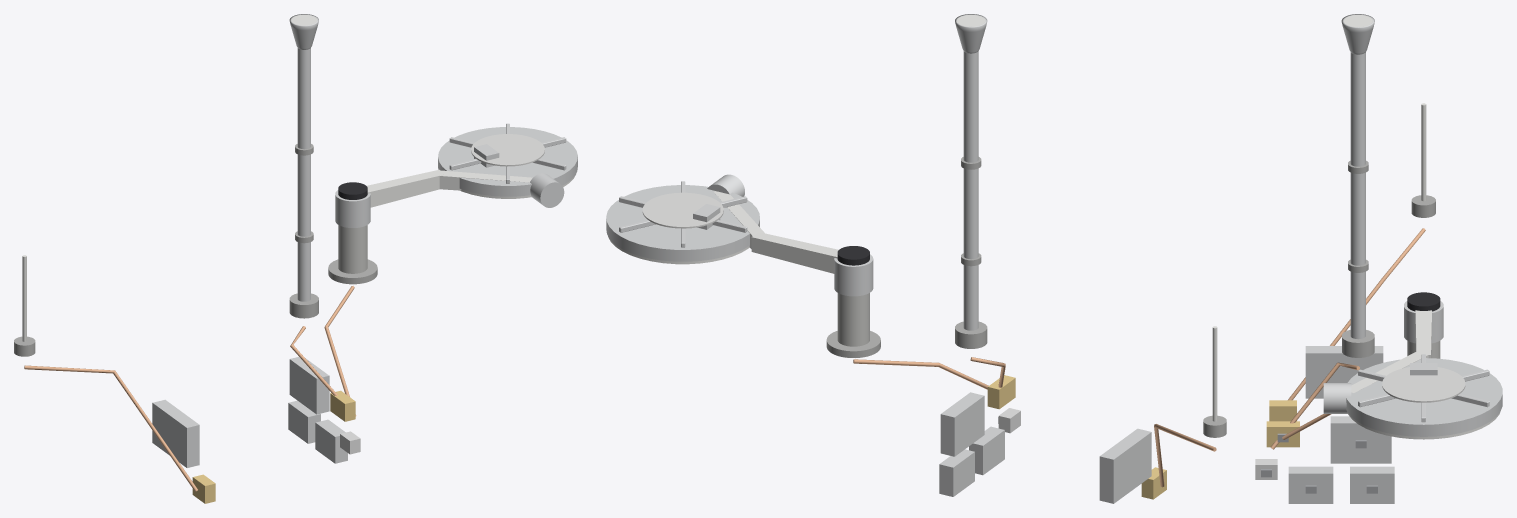
The model's file is spirit-antenna.glb.
The picture shows the model from 3 angles, left to right: view 1: azimuth 30°, elevation 25°; view 2: azimuth 150°, elevation 25°; view 3: azimuth 270°, elevation 25°; orthographic projection. The views are drawn at different scales.
Parts seen in each view (by area): view 1: HGA_BACK_STRUCTURE, RLGA, HGA_BOOM, UHF_TRANSCEIVER, HGA_PEDESTAL, RF_COAX_RUNS, VARIANT_COLUMBIA_PLAQUE, SDST, HGA_AZ_ACTUATOR, SSPA_B, SSPA_A, HGA_EL_ACTUATOR (+2 smaller); view 2: HGA_BACK_STRUCTURE, RLGA, UHF_TRANSCEIVER, HGA_BOOM, HGA_PEDESTAL, SDST, VARIANT_COLUMBIA_PLAQUE, HGA_AZ_ACTUATOR, RF_COAX_RUNS, SSPA_A, SSPA_B, UHF_ANTENNA (+1 smaller); view 3: HGA_BACK_STRUCTURE, RLGA, SDST, VARIANT_COLUMBIA_PLAQUE, UHF_TRANSCEIVER, SSPA_B, SSPA_A, RF_COAX_RUNS, HGA_AZ_ACTUATOR, HGA_BOOM, UHF_ANTENNA, HGA_EL_ACTUATOR (+4 smaller).
Boxes of the visible parts, x1,y1,x2,y2 form: HGA_BACK_STRUCTURE: (438, 123, 577, 196); RLGA: (289, 14, 318, 318); HGA_BOOM: (367, 169, 532, 207); UHF_TRANSCEIVER: (152, 399, 199, 467); HGA_PEDESTAL: (328, 225, 377, 284); RF_COAX_RUNS: (24, 285, 356, 491); VARIANT_COLUMBIA_PLAQUE: (471, 134, 544, 166); SDST: (289, 357, 329, 414); HGA_AZ_ACTUATOR: (335, 182, 370, 227); SSPA_B: (315, 419, 347, 463); SSPA_A: (288, 400, 320, 443); HGA_EL_ACTUATOR: (530, 173, 564, 207); HGA_BACK_STRUCTURE: (606, 181, 759, 261); RLGA: (955, 14, 987, 348); UHF_TRANSCEIVER: (1099, 428, 1151, 503); HGA_BOOM: (714, 191, 838, 273); HGA_PEDESTAL: (826, 293, 880, 357); SDST: (940, 392, 984, 456); VARIANT_COLUMBIA_PLAQUE: (642, 192, 723, 228); HGA_AZ_ACTUATOR: (834, 246, 873, 296); RF_COAX_RUNS: (853, 357, 1216, 487); SSPA_A: (939, 449, 974, 496); SSPA_B: (969, 426, 1004, 475); UHF_ANTENNA: (1203, 326, 1226, 437); HGA_BACK_STRUCTURE: (1346, 354, 1502, 436); RLGA: (1341, 14, 1374, 357); SDST: (1330, 416, 1391, 463); VARIANT_COLUMBIA_PLAQUE: (1382, 367, 1465, 402); UHF_TRANSCEIVER: (1305, 346, 1383, 398); SSPA_B: (1288, 466, 1333, 503); SSPA_A: (1350, 466, 1394, 503); RF_COAX_RUNS: (1270, 228, 1425, 449); HGA_AZ_ACTUATOR: (1404, 292, 1443, 343); HGA_BOOM: (1351, 310, 1431, 392); UHF_ANTENNA: (1411, 103, 1435, 217); HGA_EL_ACTUATOR: (1323, 383, 1351, 413).
Size of the model in its own units: 1.3 by 0.943 by 0.444.
